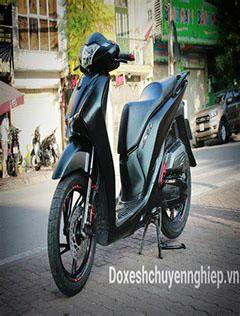motorcycle: (37, 23, 219, 300)
